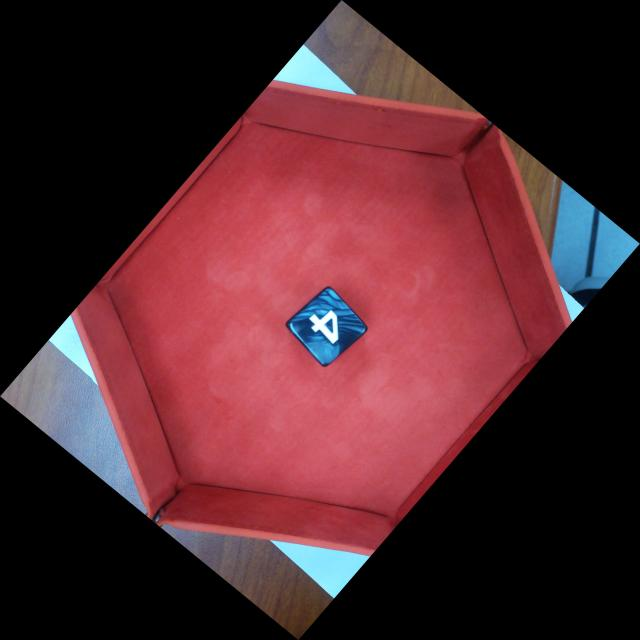dice: (284, 285, 370, 369)
